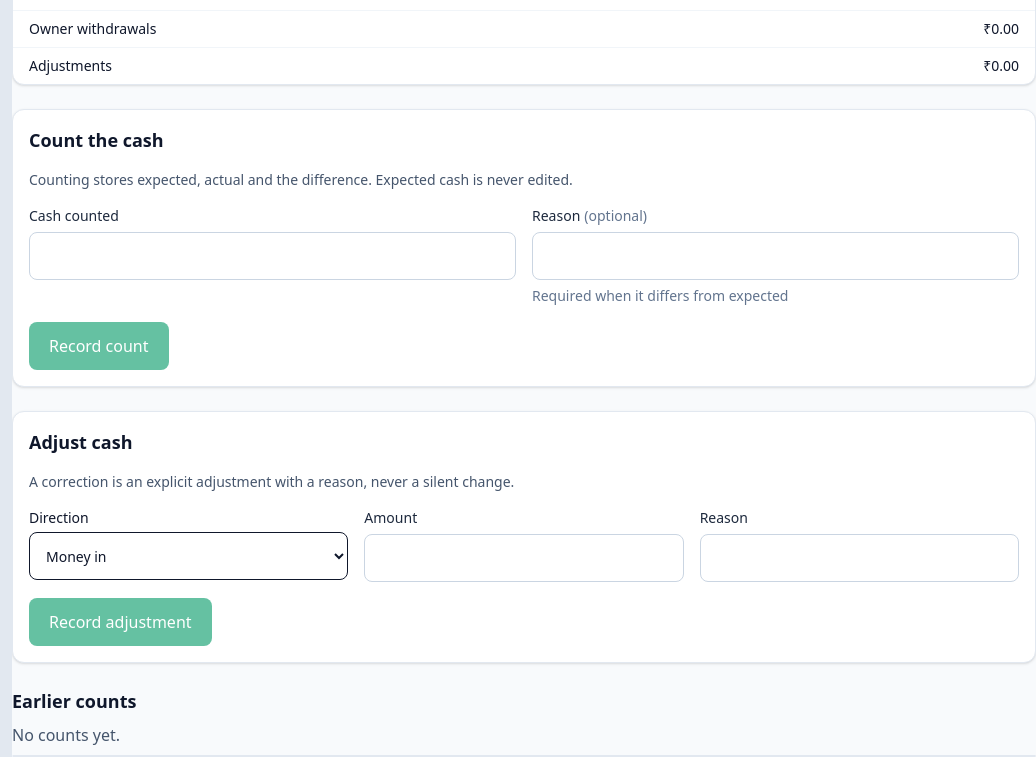
Test: cash › tells the person a large adjustment was not applied
(page scrolled)
Type "5000" into the field labelled "Amount" at (524, 558), box [364,534,684,582]
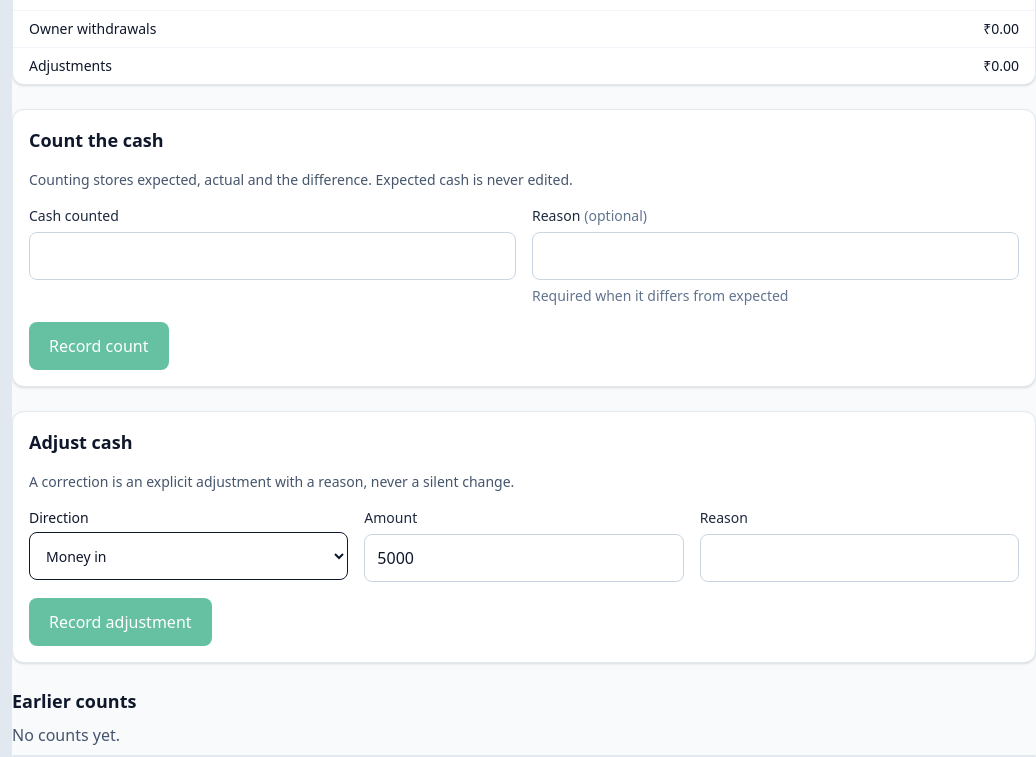
Type "Bank deposit" into the field labelled "Reason" at (859, 558), box [700,534,1019,582]
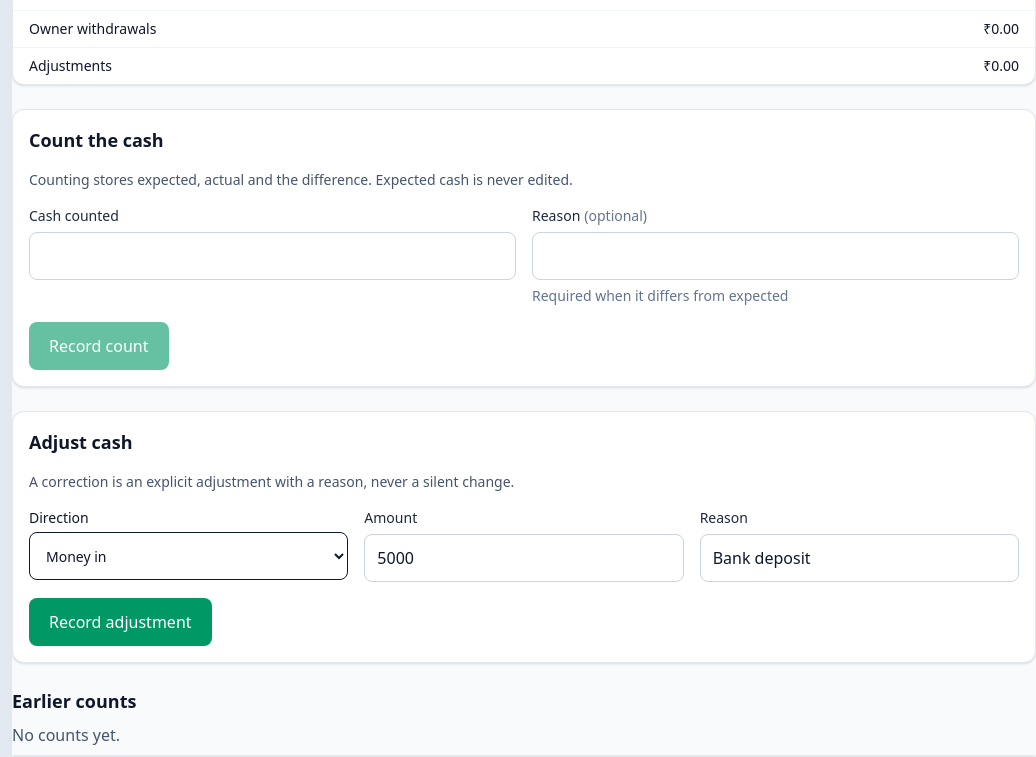
Click the button "Record adjustment" at (120, 622), box [29,598,212,646]
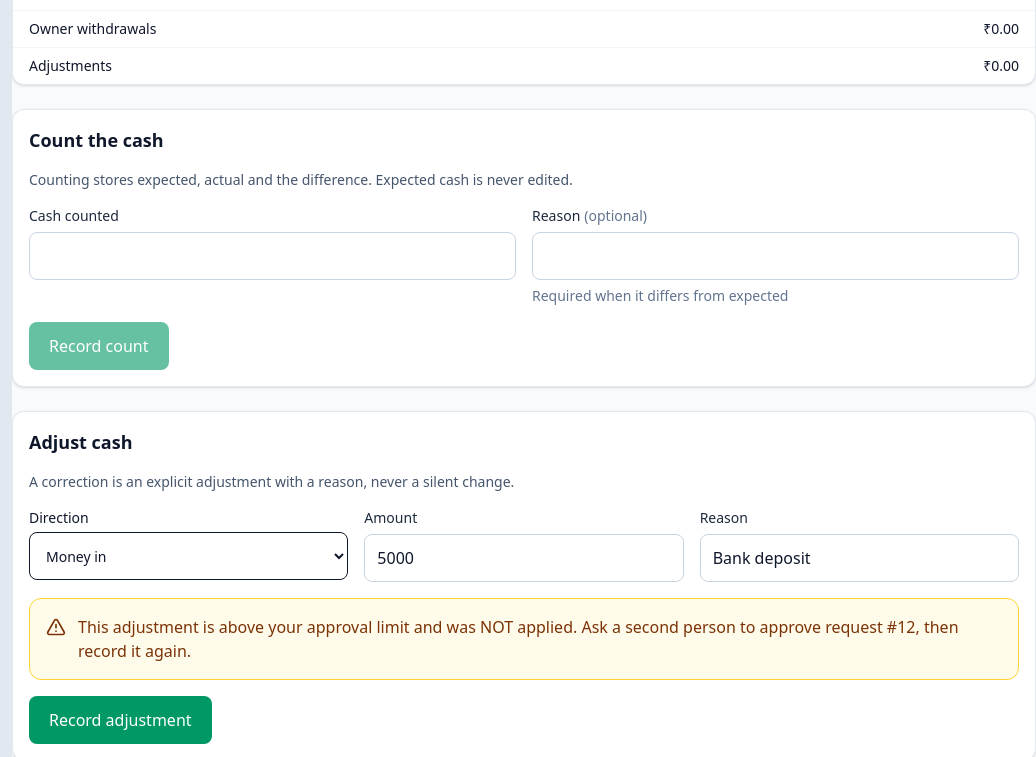
expect the text "request #12" is shown: met, box [78,616,958,662]
